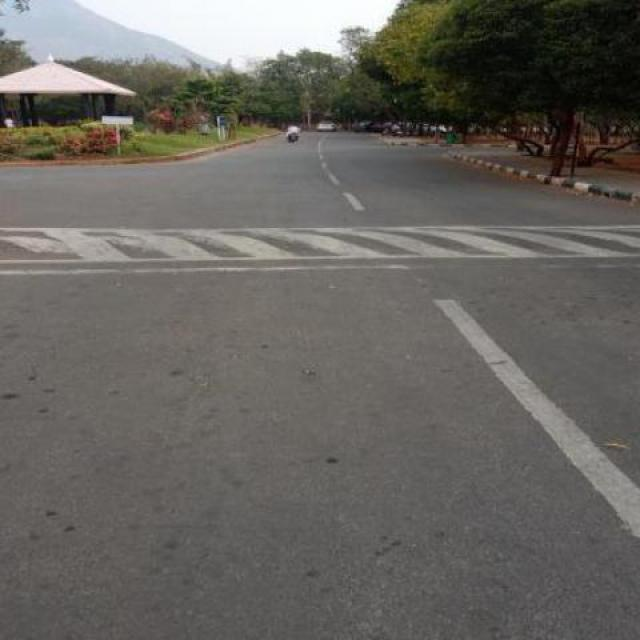Speed Bump: (0, 224, 639, 274)
